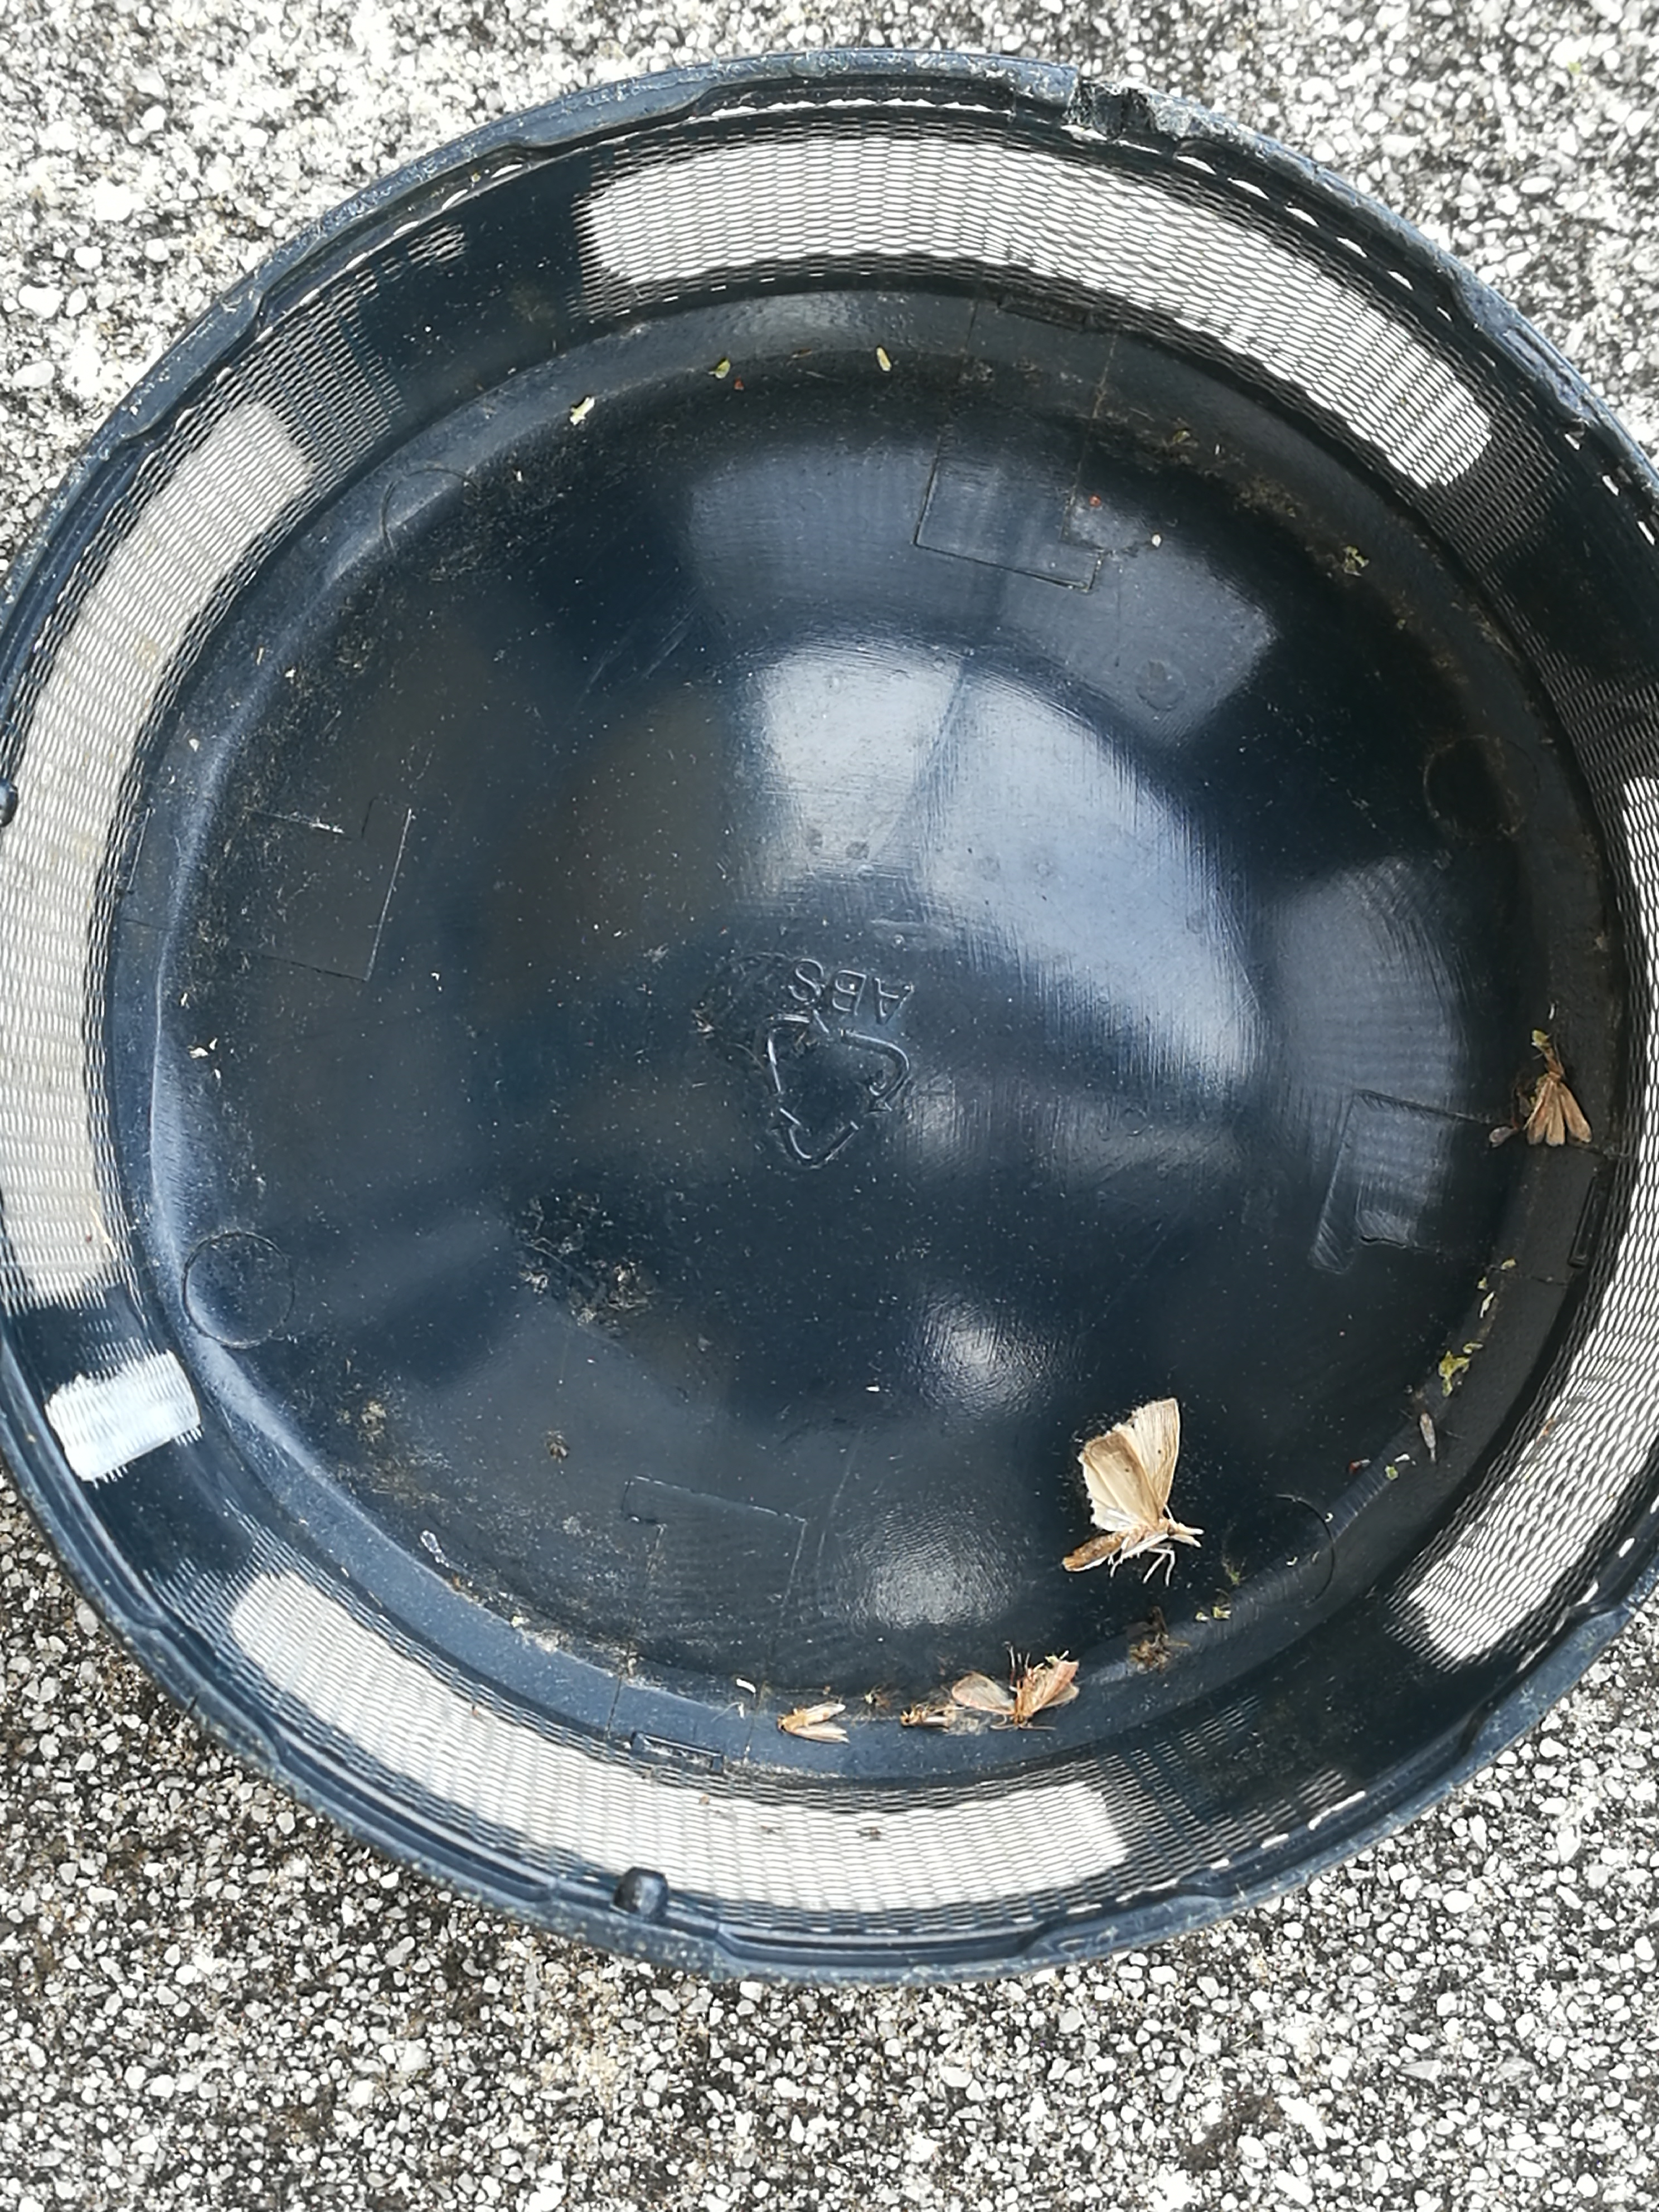mosquito: (899, 1707, 948, 1726)
moth: (1066, 1399, 1202, 1569), (953, 1656, 1080, 1726), (1525, 1076, 1591, 1146), (777, 1700, 847, 1738)
